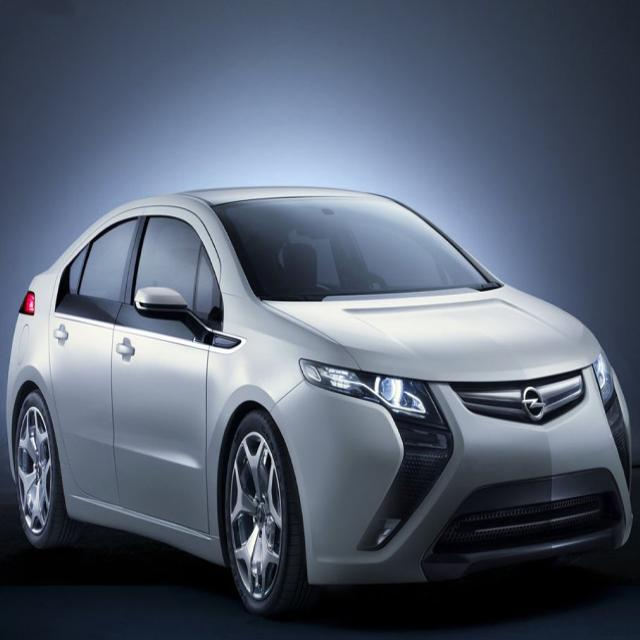back_right_side_light: (18, 287, 37, 315)
door: (59, 213, 142, 518)
front_bumper: (266, 377, 634, 587)
front_glass: (210, 193, 492, 308)
front_left_side_light: (591, 346, 616, 404)
front_right_side_door: (109, 203, 223, 540)
front_right_side_light: (298, 354, 425, 421)
front_right_side_mirror: (134, 280, 191, 330)
wheel: (220, 414, 298, 612), (14, 391, 77, 549)
